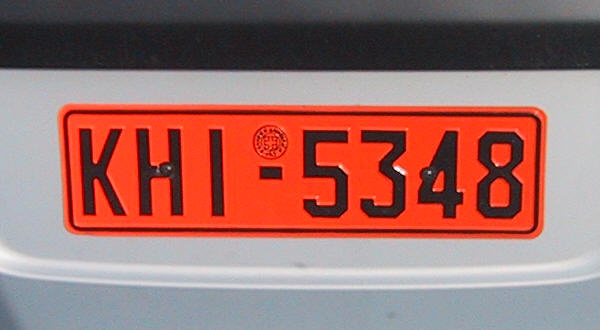license_plate: (58, 103, 544, 239)
